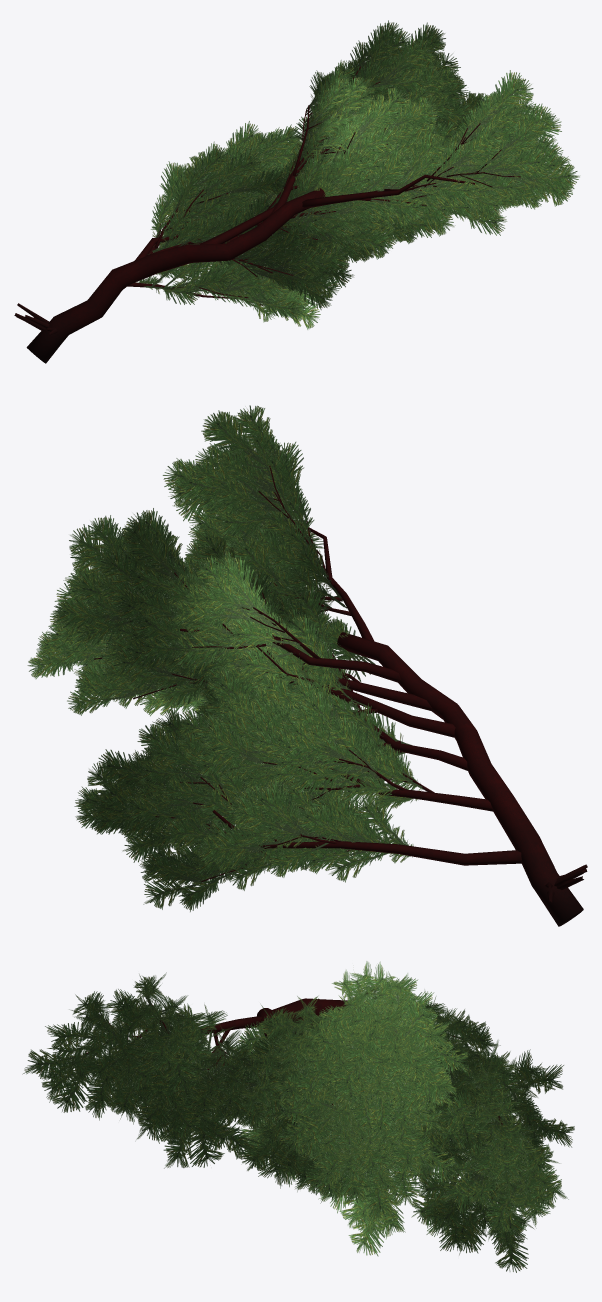
The model's file is krummholz_pine_v02.glb.
3 views of the same model, one above another, from view 1: azimuth 30°, elevation 25°; view 2: azimuth 150°, elevation 25°; view 3: azimuth 270°, elevation 25° (orthographic). The views are drawn at different scales.
Visible parts, largest first — view 1: krummholz_pine_v02; view 2: krummholz_pine_v02; view 3: krummholz_pine_v02.
Boxes of the visible parts, <box> form: krummholz_pine_v02: <box>14,20,579,363</box>; krummholz_pine_v02: <box>27,405,587,926</box>; krummholz_pine_v02: <box>22,961,574,1272</box>.
Bounding box in the file's own units: 4.31 × 2.6 × 3.6.
2 materials, 2 textured.
